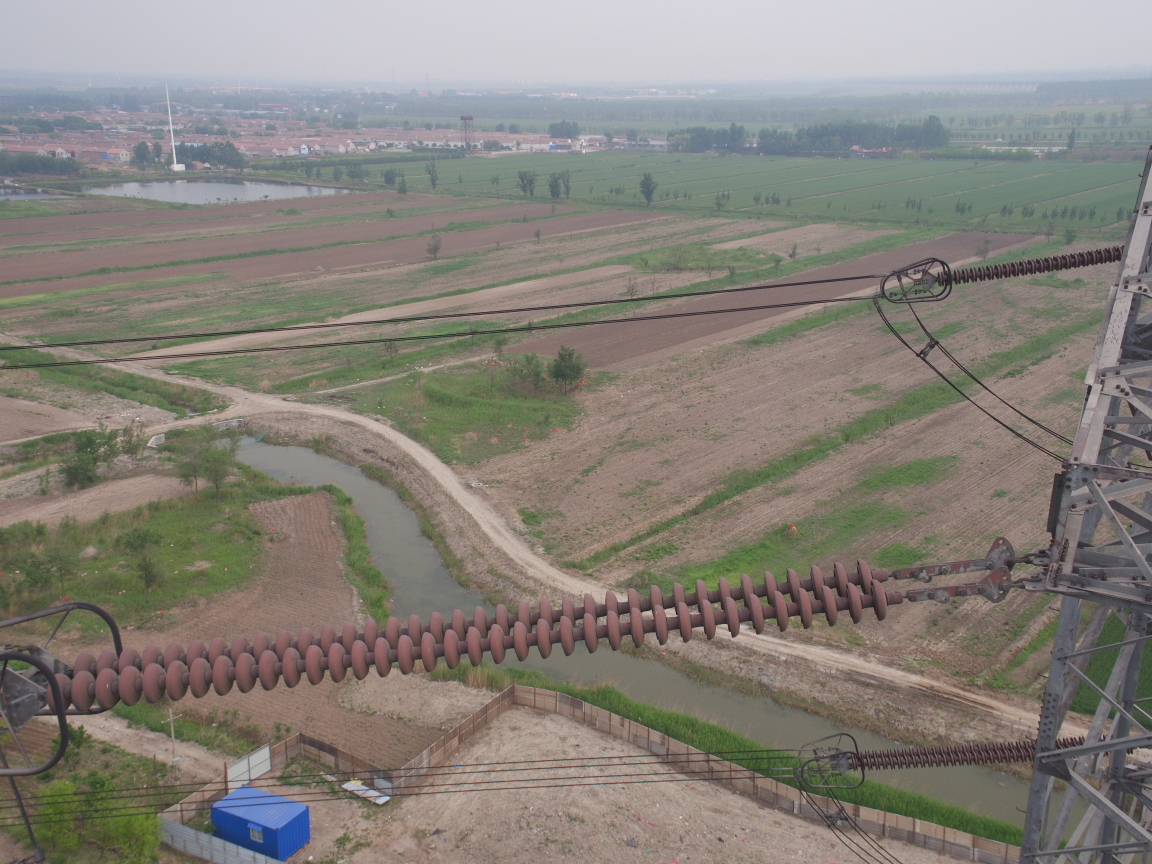insulator: (42, 550, 935, 718), (848, 729, 1152, 774), (934, 242, 1127, 294)
